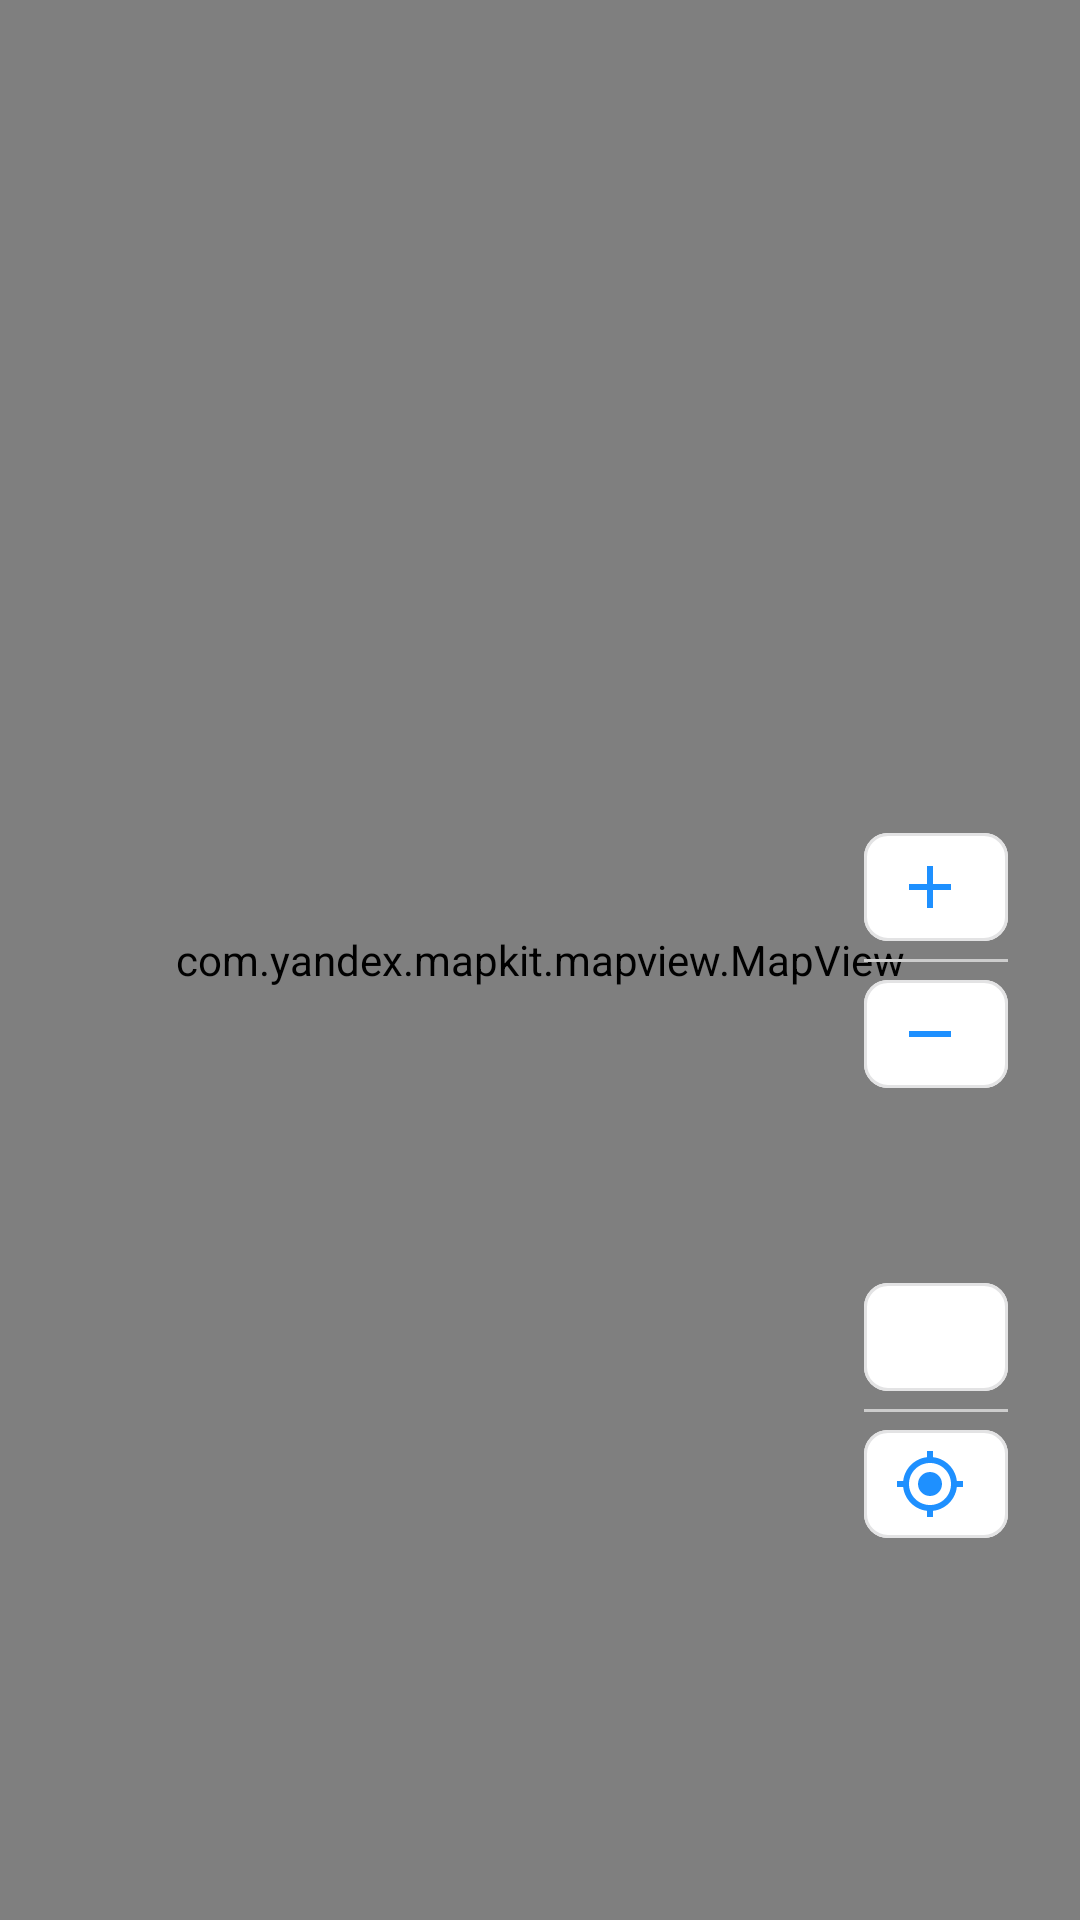

Locate icon controls on the screen. Image size 1080px x 1920px, boxes as (x1, y1, x2, y2).
location: (864, 1430, 1008, 1538)
zoom in: (864, 833, 1008, 941)
zoom out: (864, 980, 1008, 1088)
